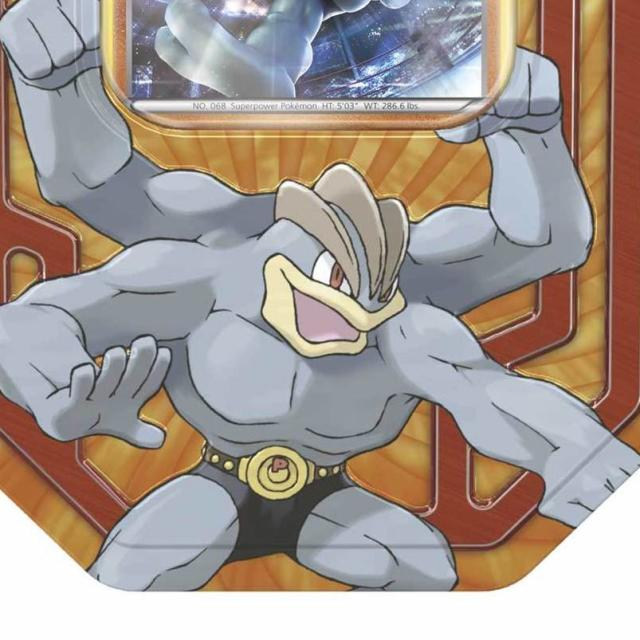Machamp: (102, 165, 489, 595)
